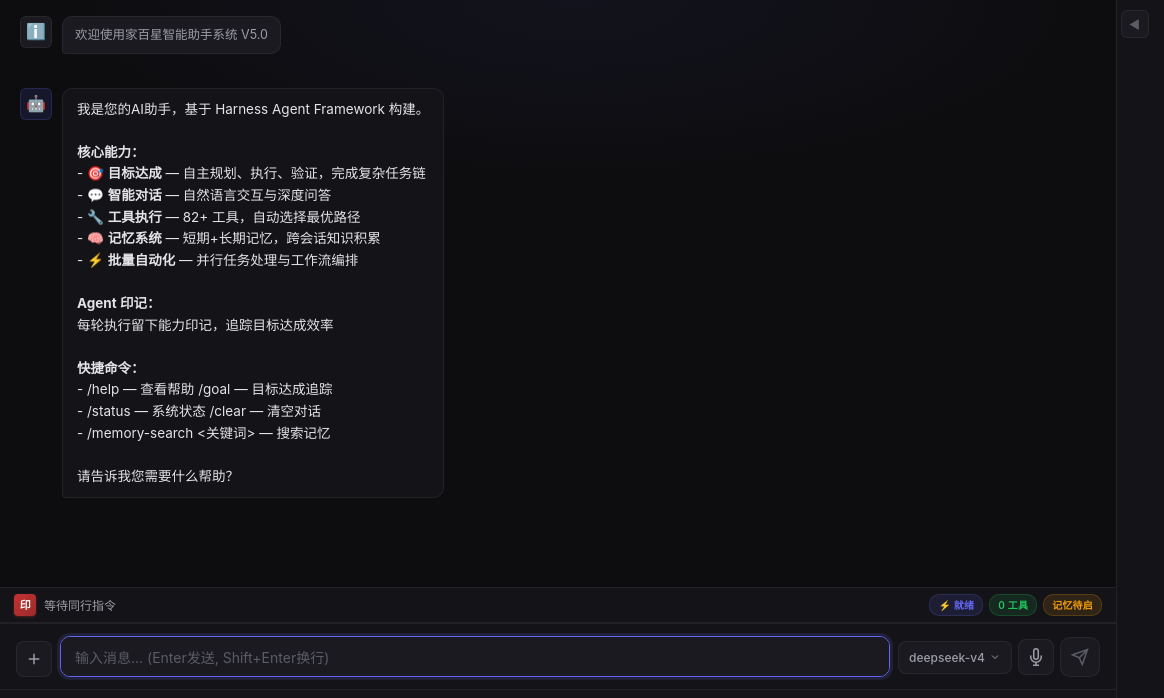
Scenario: DesktopDashboard › clicking a feature node shows toast and updates input
 先展开右侧面板
Click the button titled "展开信息面板".
click(1134, 24)  # box x1=1120 y1=10 x2=1148 y2=38
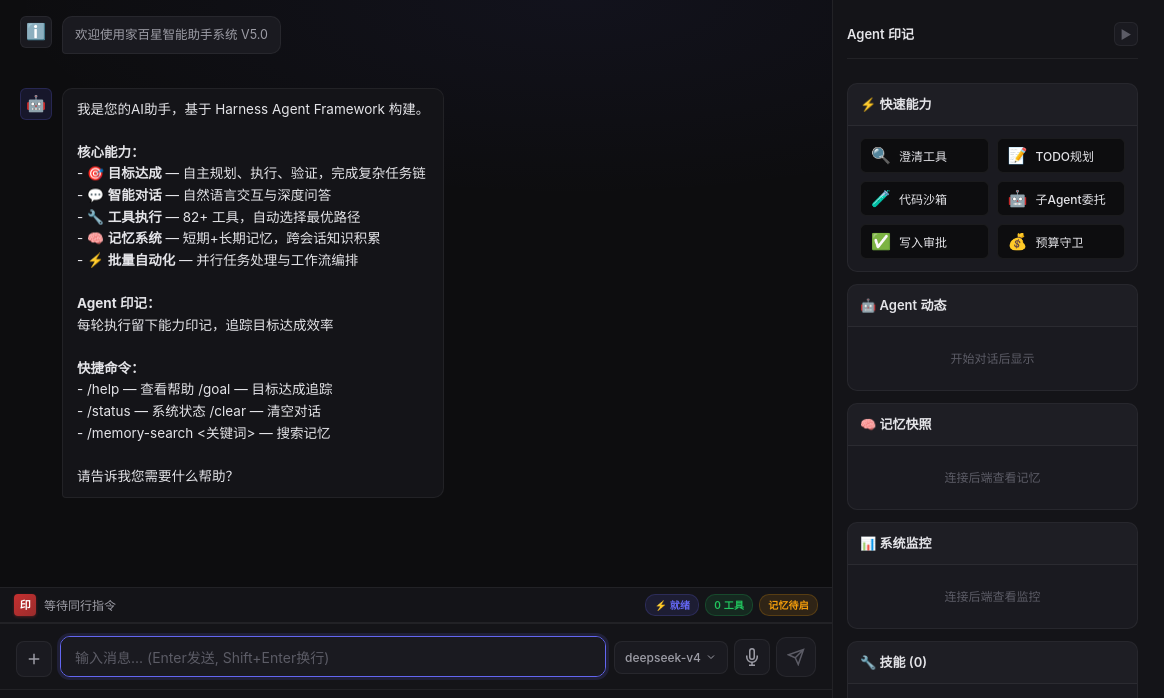
Click the button "🔍 澄清工具".
click(924, 155)  # box x1=860 y1=138 x2=988 y2=173
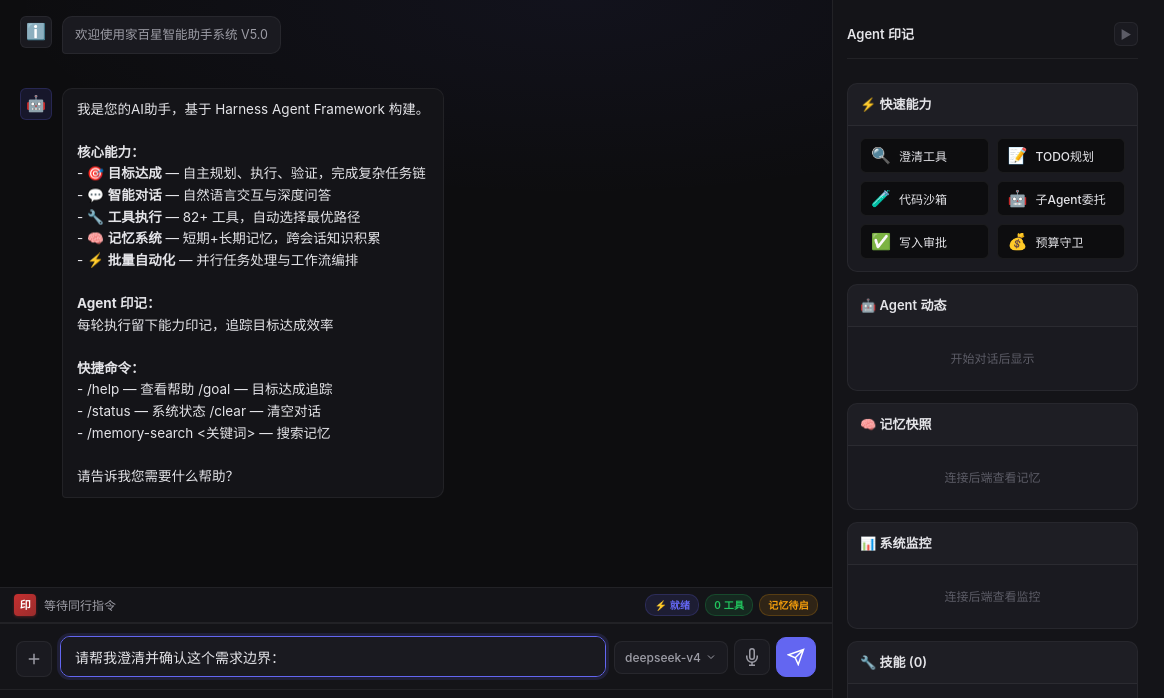
Expected: the text box with placeholder "输入消息... (Enter发送, Shift+Enter换行)" holds "请帮我澄清并确认这个需求边界：", x1=60 y1=636 x2=606 y2=677
